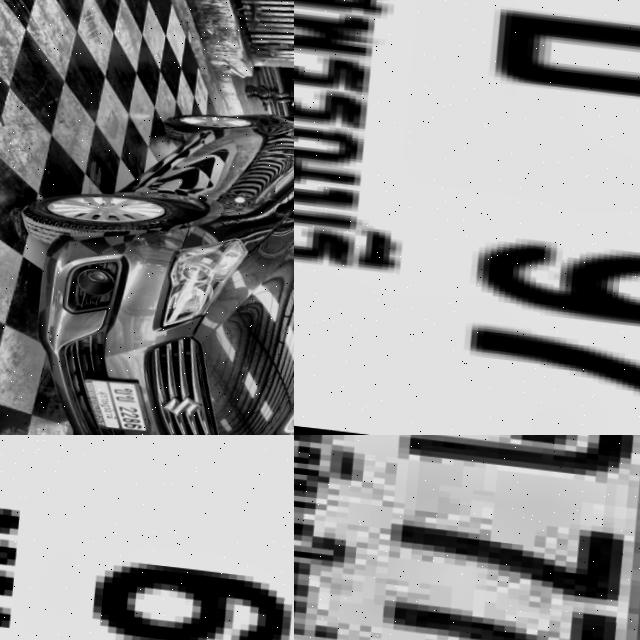license-plate: (294, 0, 640, 435), (294, 435, 640, 640), (0, 435, 294, 640), (73, 374, 155, 435)
